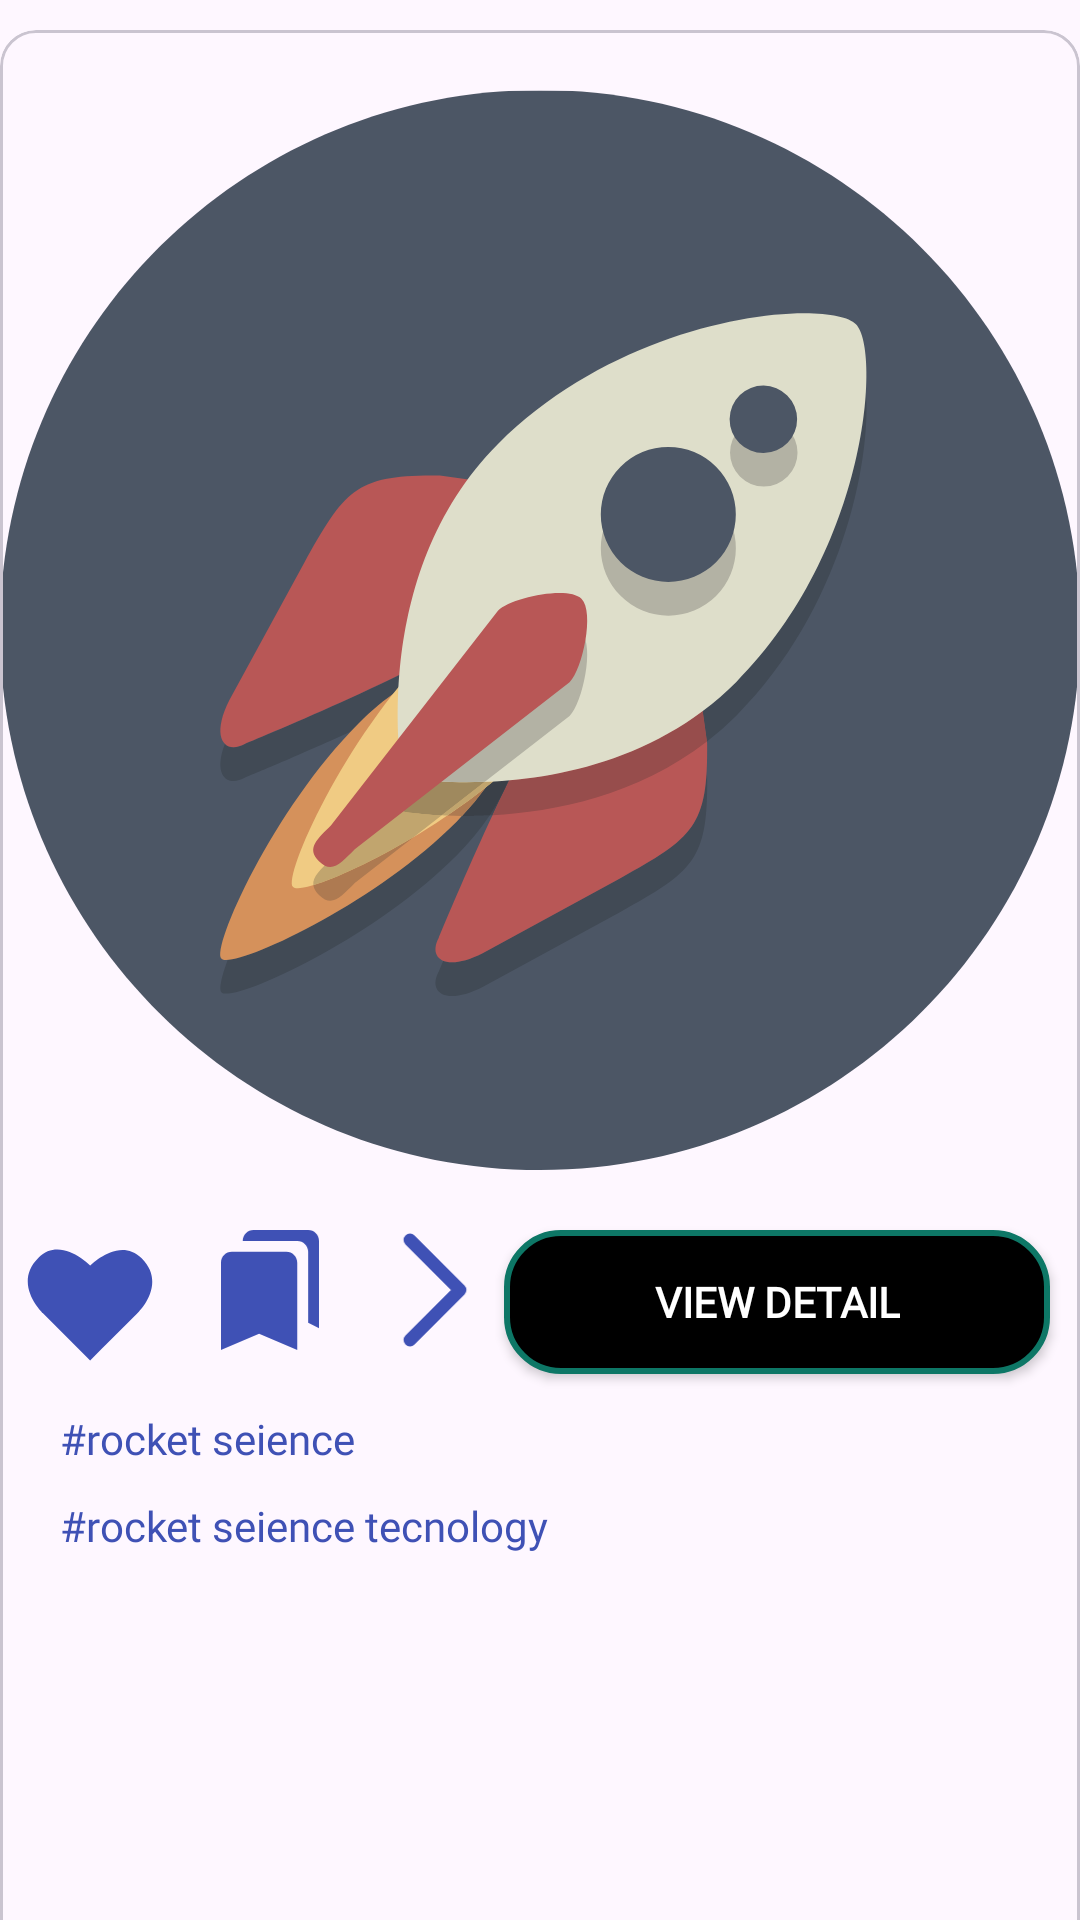

Icons on this 1080x1920 Android screen, each with the point to tap as (x=x, y=y):
arrow right: (x=435, y=1290)
like: (x=90, y=1305)
